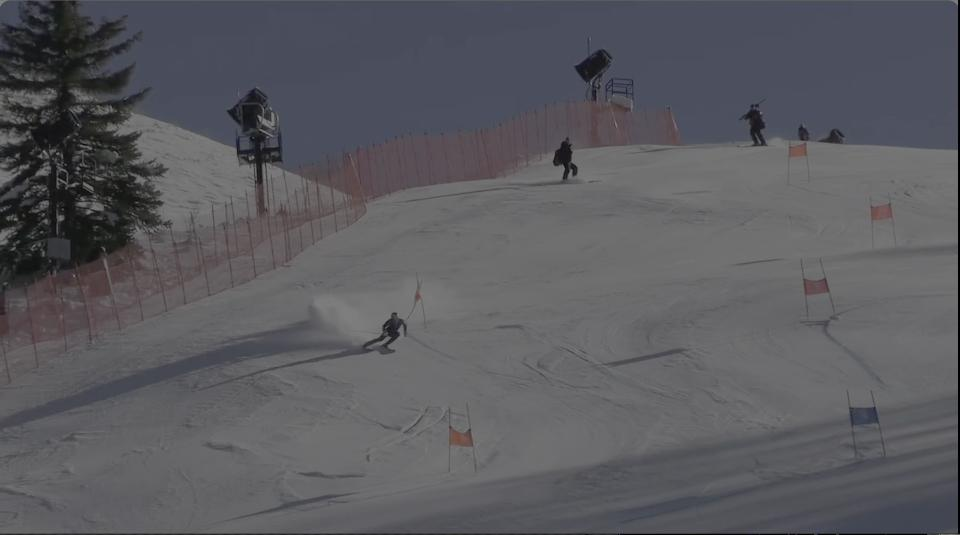gate: (791, 261, 820, 334), (834, 391, 859, 467), (814, 256, 842, 323), (864, 392, 886, 466), (441, 405, 457, 481), (464, 405, 479, 472)
